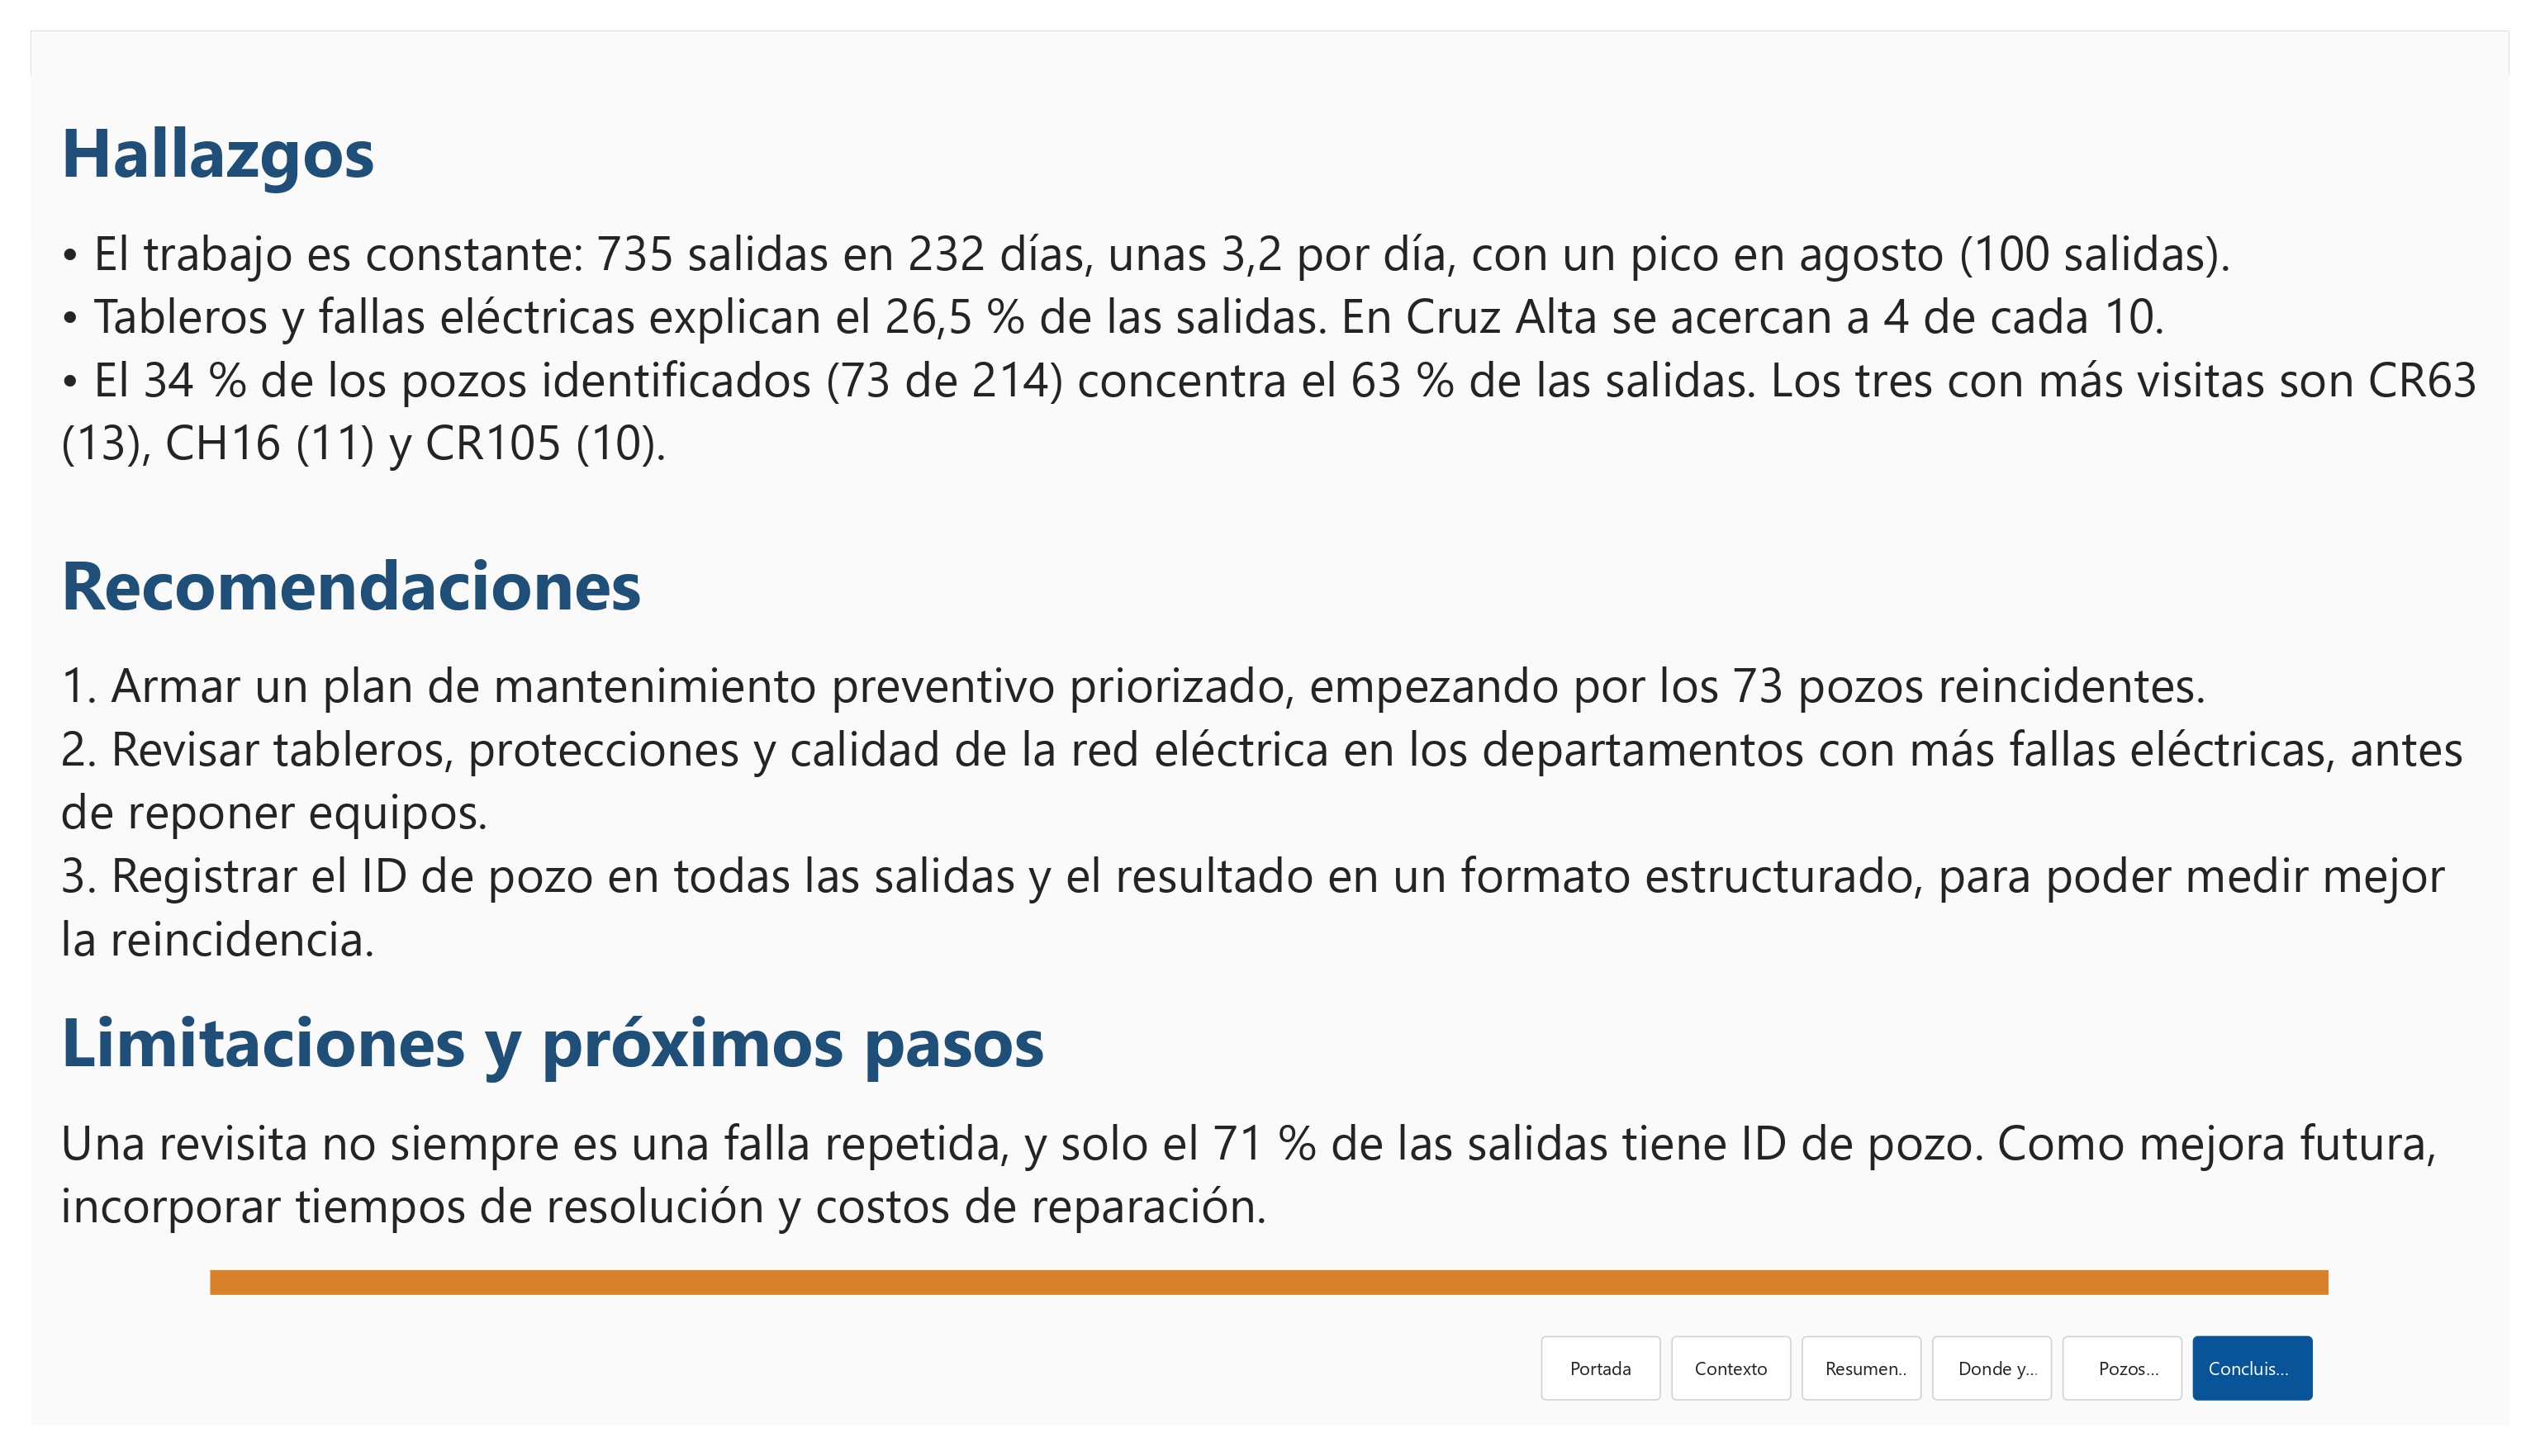

This screenshot's page, from the dashboard's own definition file:
{"tool":"powerbi","page":{"name":"Concluisones","canvas":[1920,1080],"ordinal":5},"visuals":[{"type":"textbox","box":[23.3,55.4,1873.3,1024.2],"z":0},{"type":"shape","box":[138.6,960,1641.3,19],"z":1000},{"type":"pageNavigator","box":[1170.1,1011.1,600,50],"z":2000}]}

Visuals, with their boxes on the page's 1920x1080 design canvas (x1, y1, x2, y2). These are canvas units, not pixel positions in the 2540x1456 screenshot, which may show the page scaled, cropped or inside an application window:
textbox: <bbox>23, 55, 1897, 1080</bbox>
shape: <bbox>139, 960, 1780, 979</bbox>
pageNavigator: <bbox>1170, 1011, 1770, 1061</bbox>
